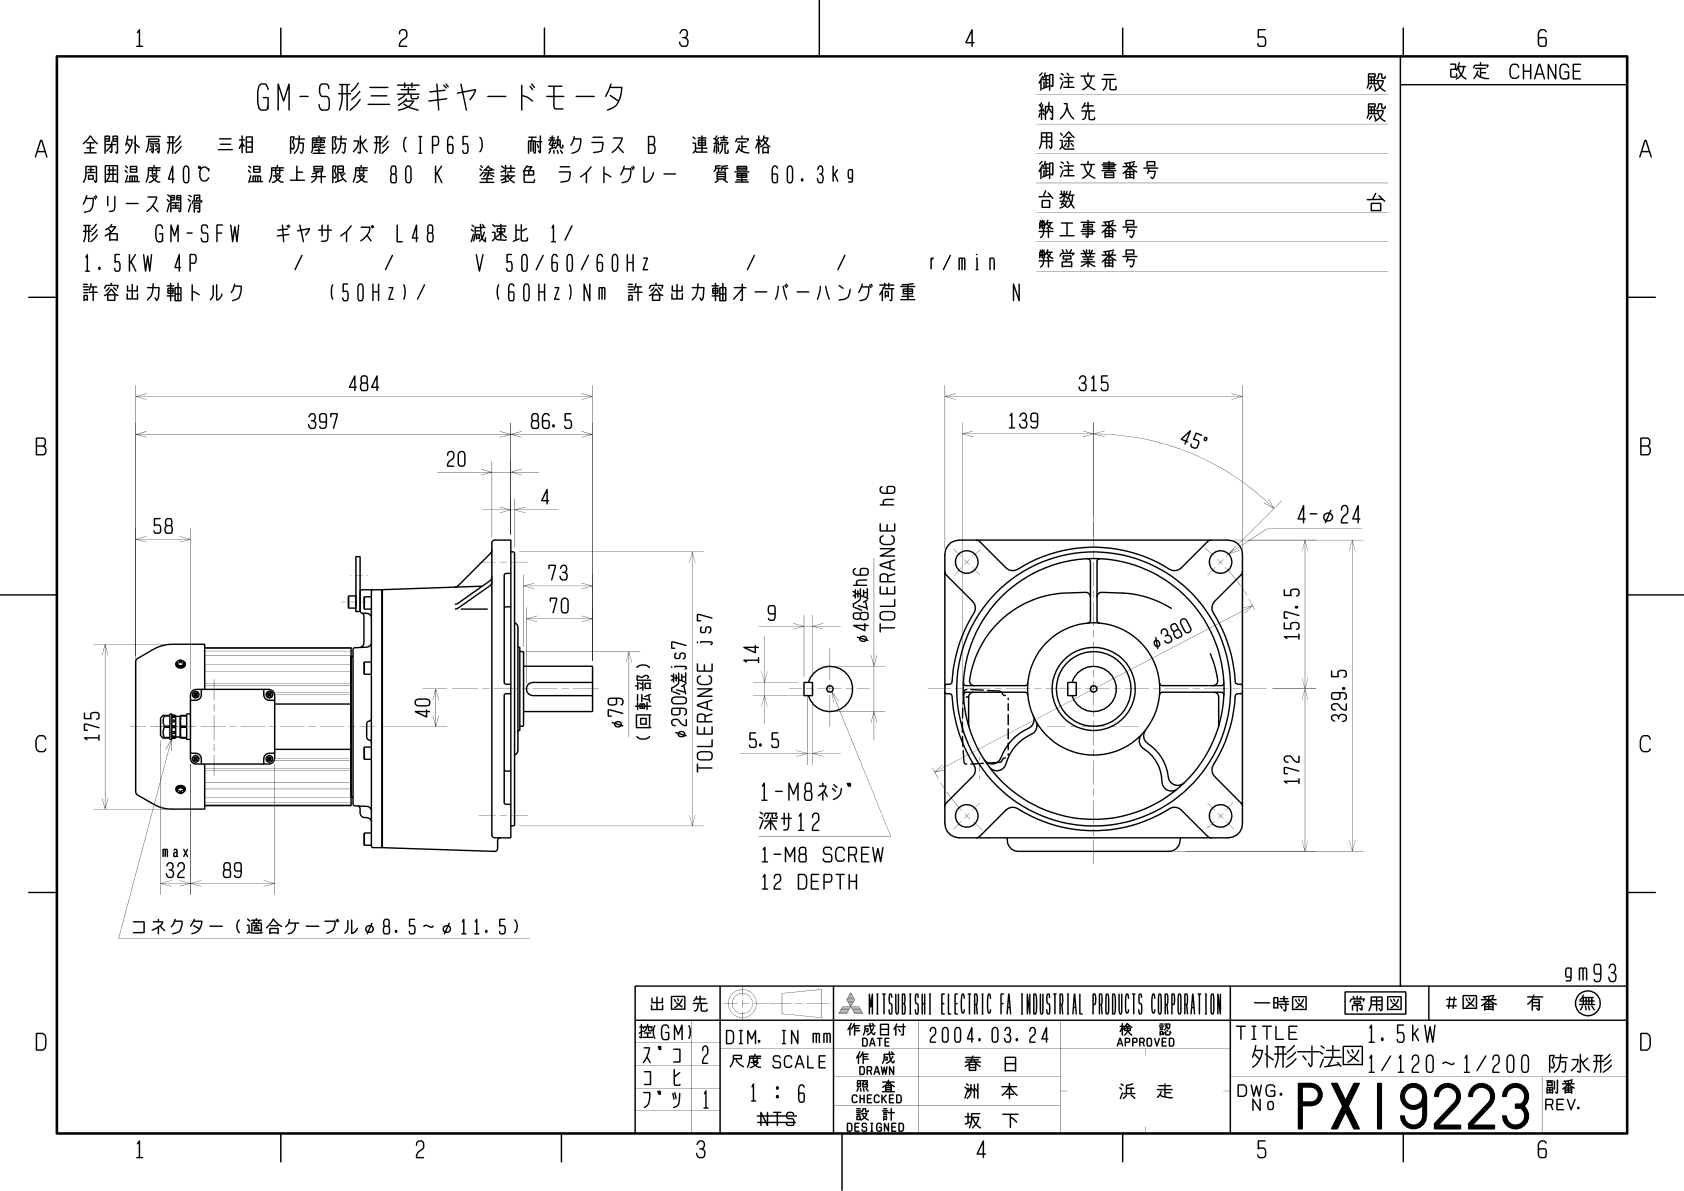GM_S_IP65＿三相_フランジ: (67, 342, 1389, 959)
